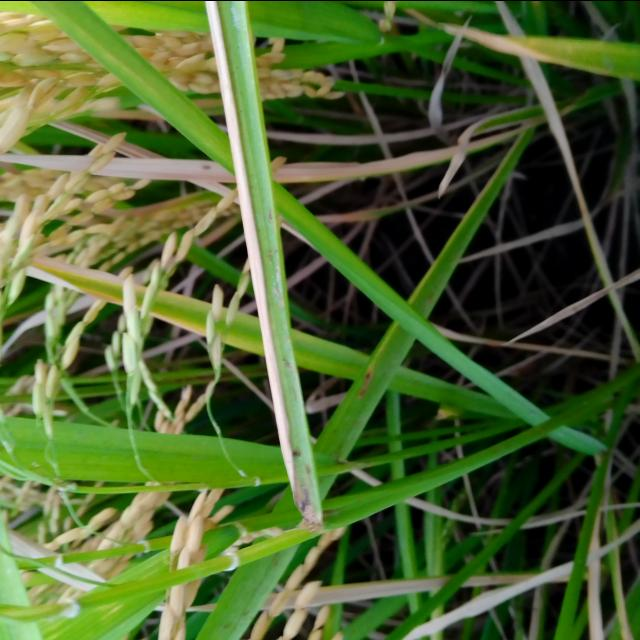Brown spot: (433, 11, 618, 81), (264, 408, 336, 530), (30, 254, 120, 306), (460, 100, 542, 145)
brown plant hopper: (268, 260, 288, 316), (227, 0, 244, 35)
insects: (290, 444, 316, 480), (355, 368, 373, 399), (278, 354, 296, 372), (265, 202, 275, 226), (200, 162, 212, 170)
